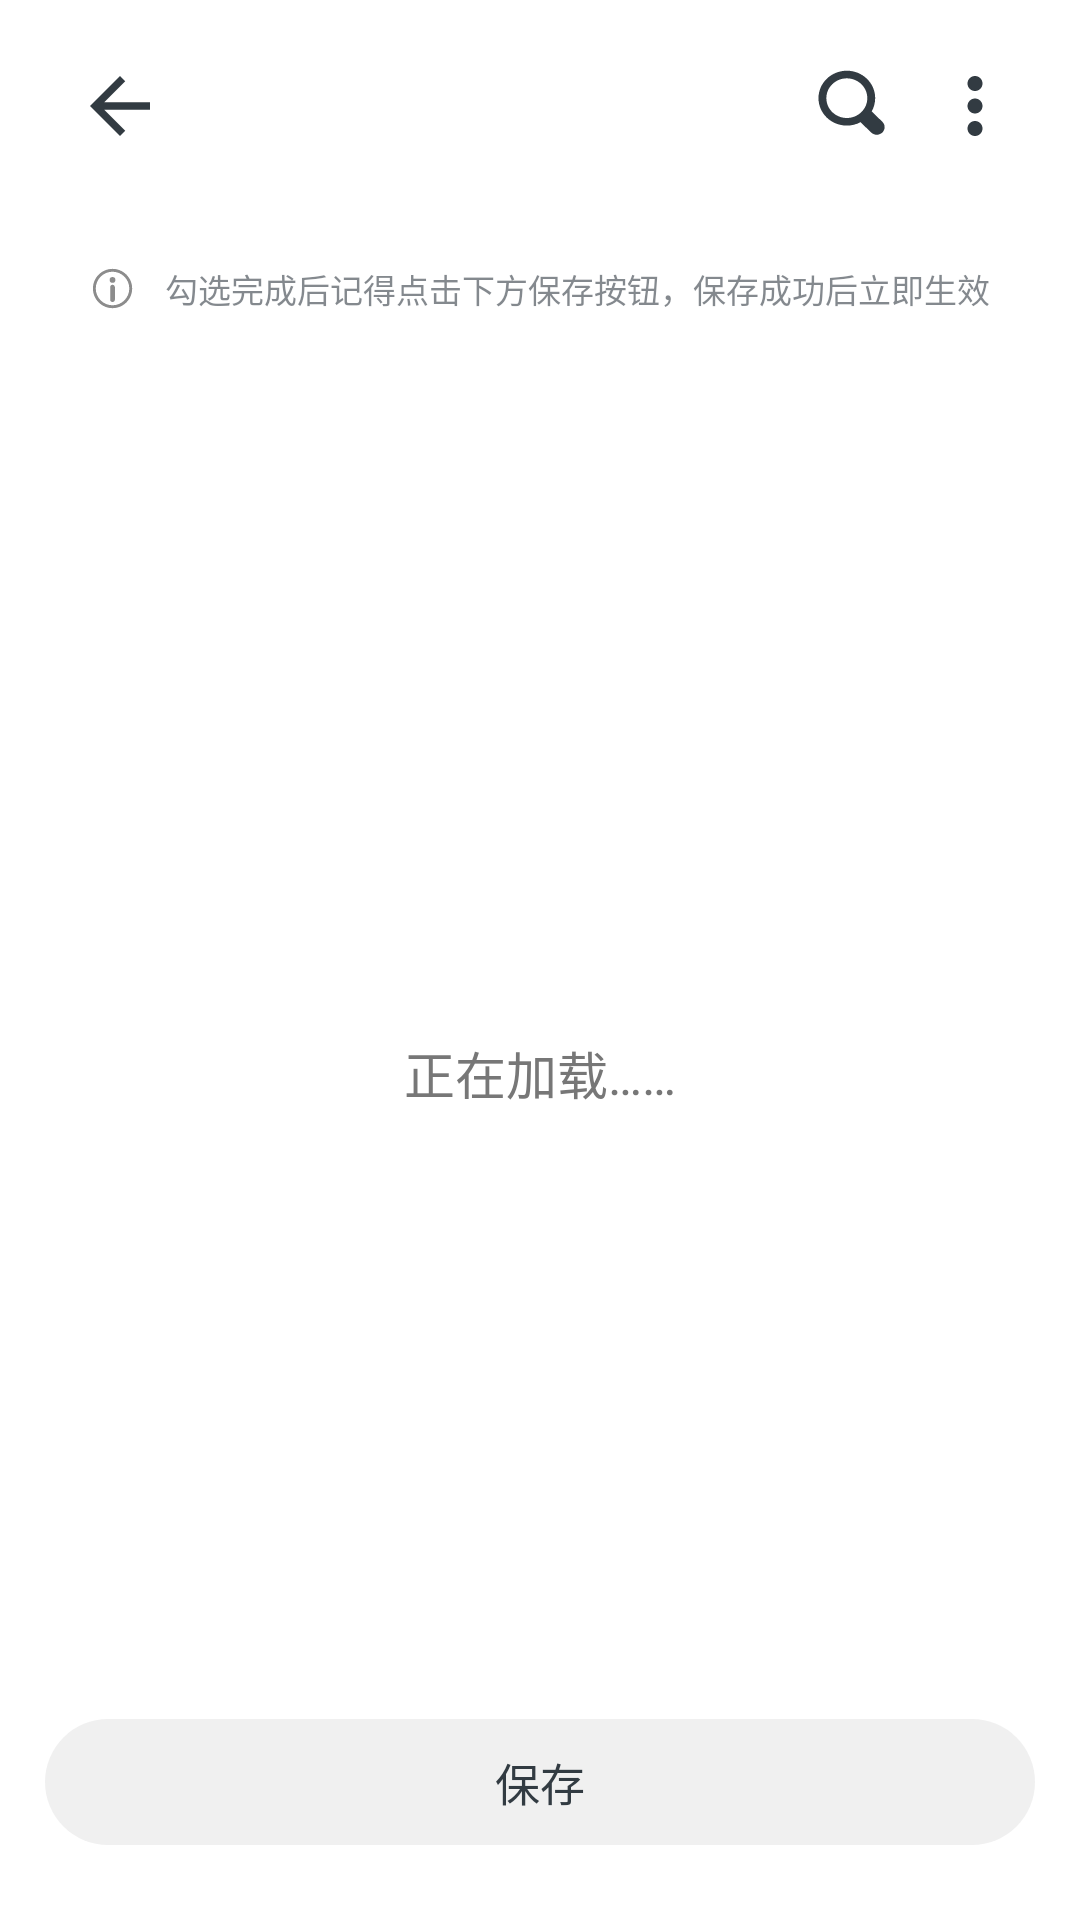

Locate icon controls on the screen. Image size 1080 × 1920, boxes as box=[x1, y1, x2, y2].
ab back: box=[90, 76, 150, 136]
info: box=[93, 269, 133, 309]
overflow: box=[967, 76, 983, 136]
search: box=[818, 70, 885, 135]
